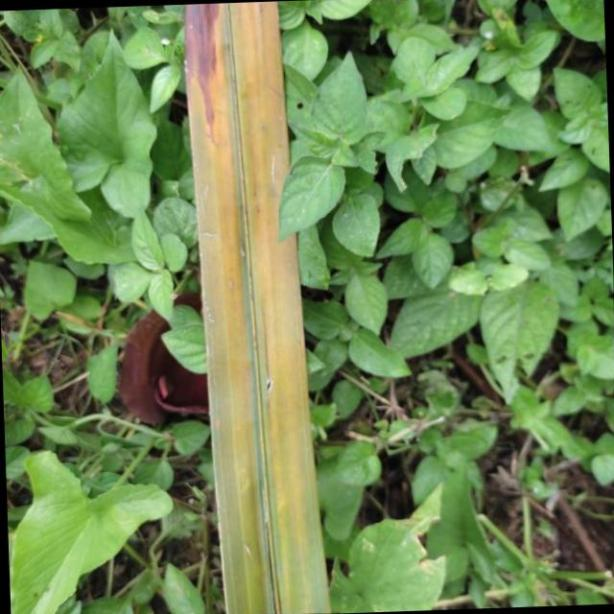Megnesium: (181, 0, 329, 614)
